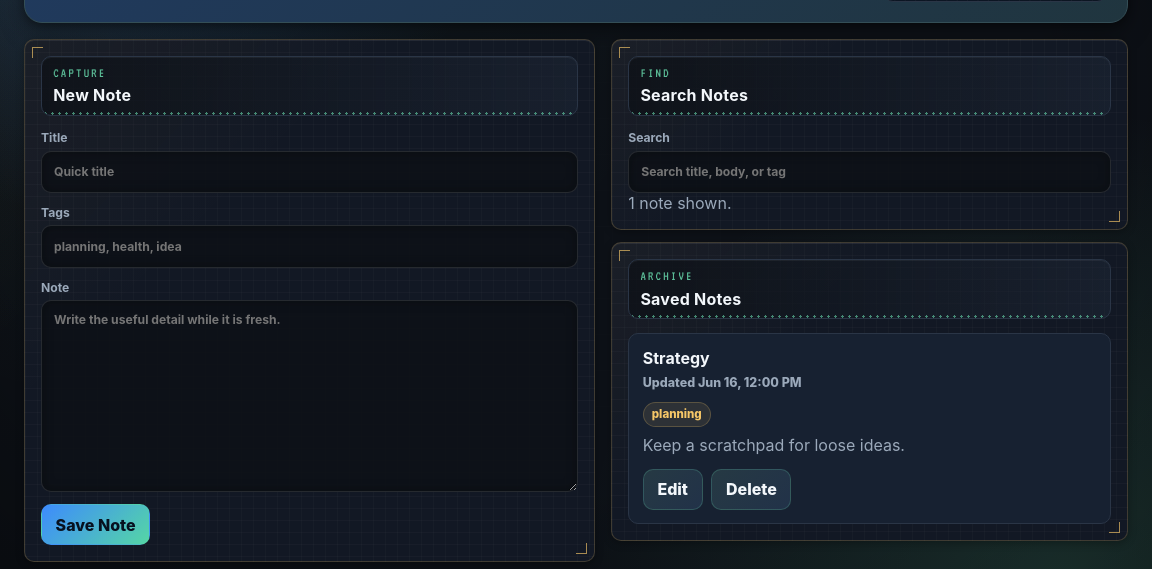
Test: Notes › deletes a note after confirmation
This screenshot has width=1152, height=569.
(page scrolled)
Check: the text "Keep a scratchpad for loose ideas." is shown, box [643,435,905,455]
Step 1. Click the button "Delete" → (751, 489), box [711,469,792,510]
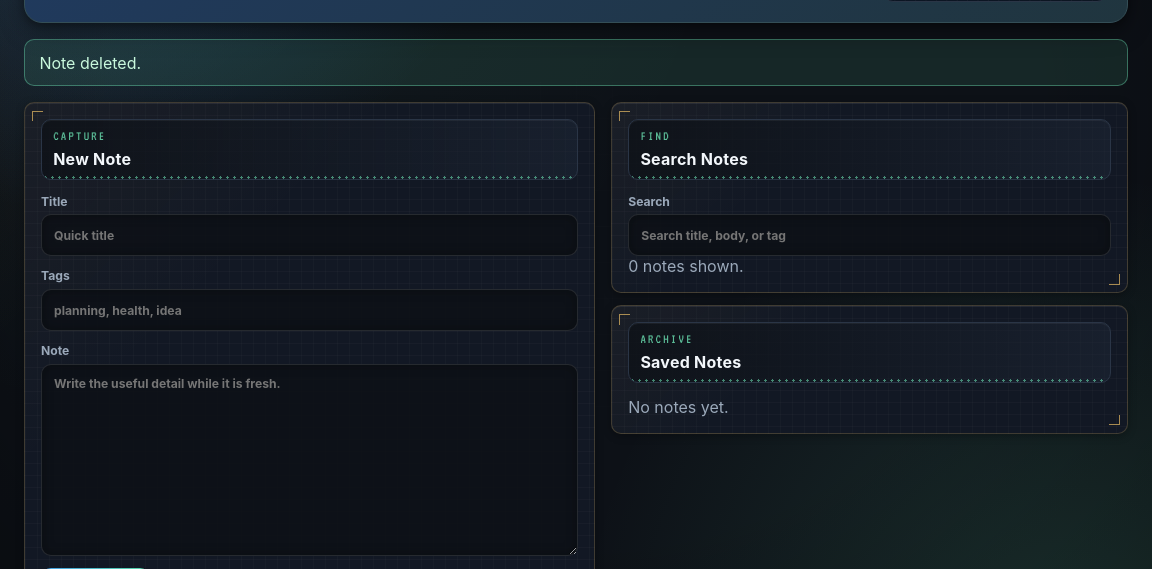
Check: the text "Note deleted." is shown, box [24,39,1128,86]
Check: the text "Keep a scratchpad for loose ideas." is gone
